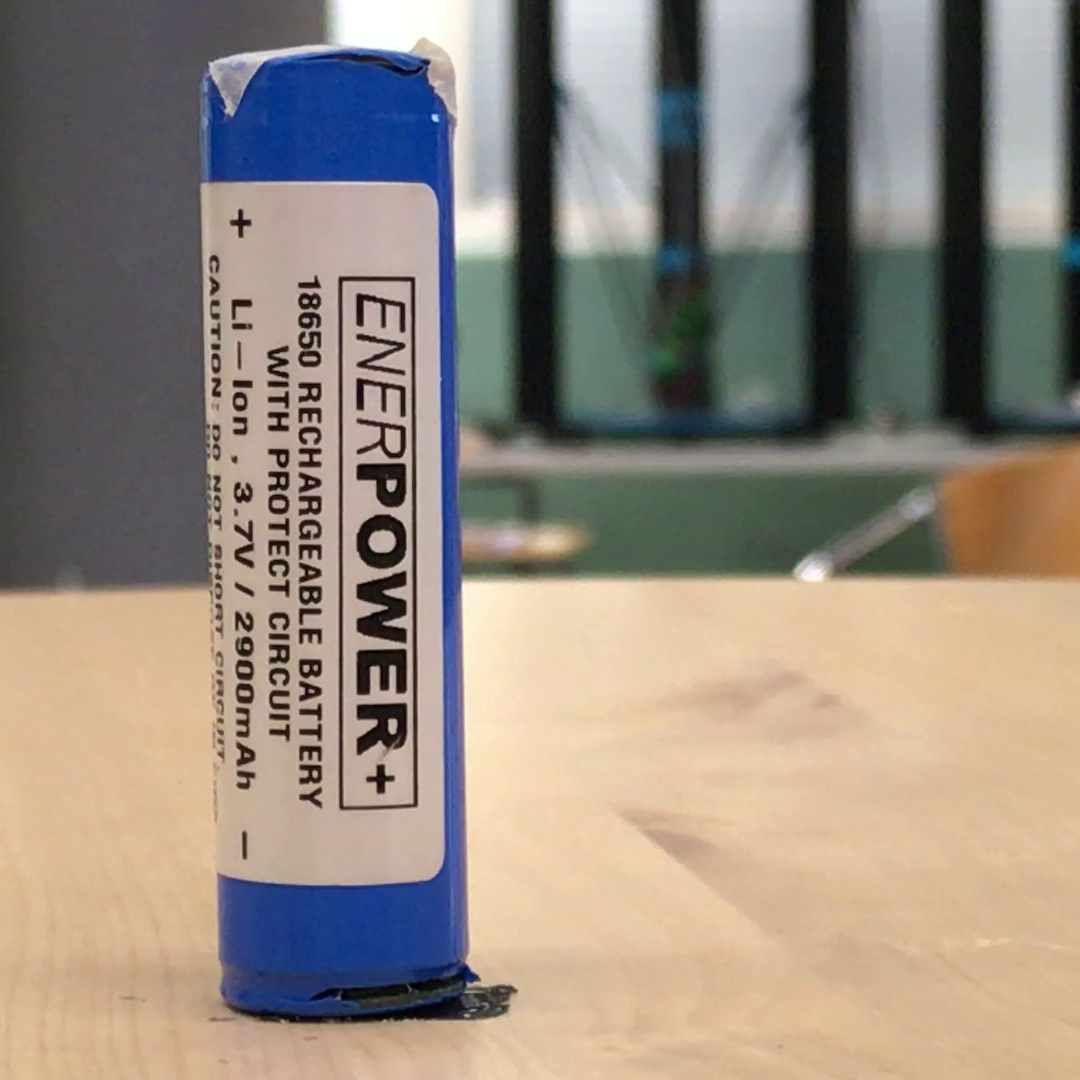keyword: (224, 472, 264, 579)
